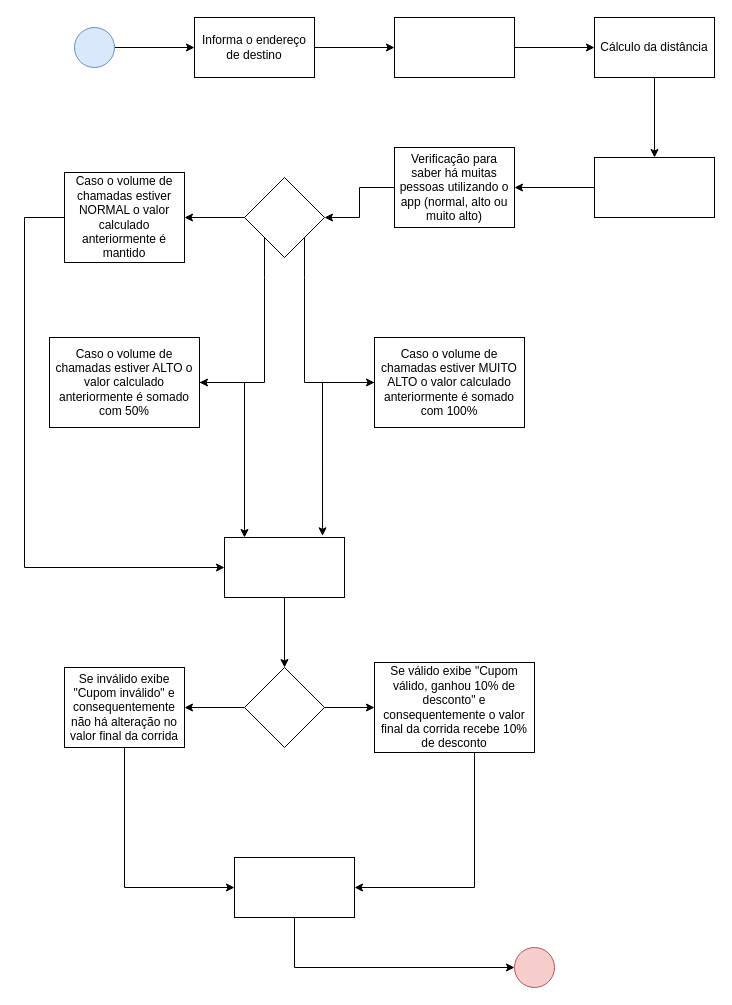
Some shapes in this 732 by 1005 pixel diagram are drawn without their labels. Here are the shapes that lost their labels. From the top down, the centre of each, then its label:
(454,47): Detecta o endereço
(654,187): Realiza o cálculo do valor da corrida
(284,567): O usuário põe o cupom de desconto
(294,887): O aplicativo exibe o valor final da corrida.
